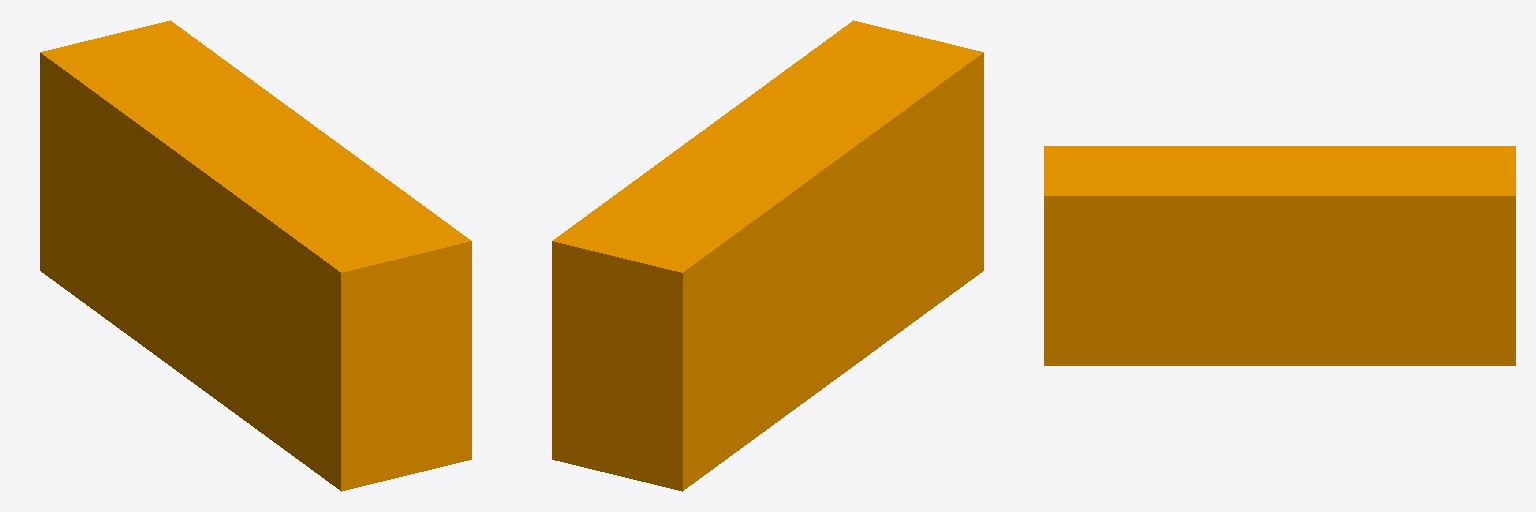
The robot description file, URDF, robot "ball":
<?xml version="0.0" ?>
<robot name="ball">
    <link name="wall">
        <contact>
            <lateral_friction value="1"/>
        </contact>

        <inertial>
            <origin xyz="0 0 0" rpy="0 0 0"/>
            <mass value="0.0"/>
            <inertia ixx="0"  ixy="0"  ixz="0" iyy="0" iyz="0" izz="0" />
        </inertial>

        <visual>
            <origin xyz="0 0 0" rpy="0 0 0" />
            <geometry>
                <box size="0.5 2.0 0.8" />
            </geometry>
            <material name="Orange">
                <color rgba="1.0 0.65 0.0 1.0"/>
            </material>
        </visual>

        <collision>
            <origin xyz="0 0 0" rpy="0 0 0"/>
            <geometry>
                <box size="0.5 2.0 0.8" />
            </geometry>
        </collision>
    </link>
</robot>

--- What the picture shows (computed from the rendered views, not written in the file) ---
Views: 3 orthographic renders of the robot side by side, from view 1: azimuth 30°, elevation 25°; view 2: azimuth 150°, elevation 25°; view 3: azimuth 270°, elevation 25°.
Robot: ball — 1 links, 0 joints (none); root link wall; default pose: all joints at 0.
Visible links, largest first — view 1: wall; view 2: wall; view 3: wall.
Link boxes in pixels (x1,y1,x2,y2): wall: (40, 20, 471, 491); wall: (552, 20, 983, 491); wall: (1044, 146, 1515, 365).
Bounding box of the posed robot: 0.5 × 2 × 0.8 m (x, y, z).
Geometry: primitives only (box / cylinder / sphere), no mesh files.